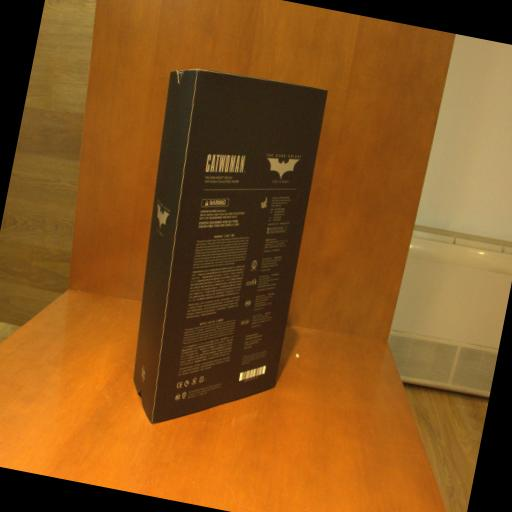catwoman: (104, 60, 336, 446)
